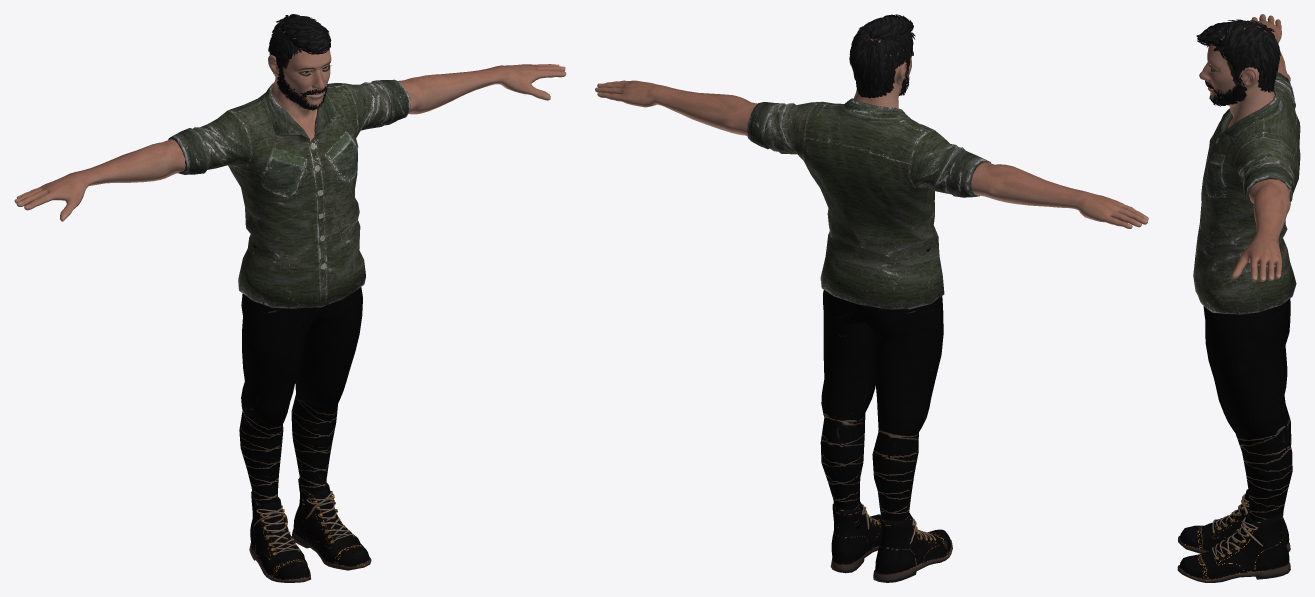
The model's file is carrr6.obj.
The picture shows the model from 3 angles, left to right: view 1: azimuth 30°, elevation 25°; view 2: azimuth 150°, elevation 25°; view 3: azimuth 270°, elevation 25°; orthographic projection.
Visible parts, largest first — view 1: Tops, Bottoms, Body, Shoes, Hair; view 2: Tops, Bottoms, Body, Shoes, Hair; view 3: Tops, Bottoms, Shoes, Body, Hair, Beards.
Part boxes in pixels (bbox=[...]): Tops: bbox=[168, 79, 410, 308]; Bottoms: bbox=[239, 244, 362, 509]; Body: bbox=[14, 22, 566, 221]; Shoes: bbox=[249, 477, 371, 582]; Hair: bbox=[268, 14, 331, 76]; Tops: bbox=[747, 98, 990, 309]; Bottoms: bbox=[820, 248, 943, 532]; Body: bbox=[595, 35, 1148, 228]; Shoes: bbox=[830, 502, 952, 582]; Hair: bbox=[849, 14, 915, 98]; Tops: bbox=[1193, 72, 1300, 314]; Bottoms: bbox=[1203, 281, 1292, 537]; Shoes: bbox=[1177, 489, 1290, 582]; Body: bbox=[1199, 14, 1290, 281]; Hair: bbox=[1196, 19, 1280, 92]; Beards: bbox=[1209, 74, 1247, 106].
Bounding box in the file's own units: 194 × 182 × 37.67.
Materials: 3 (3 with a texture image).
